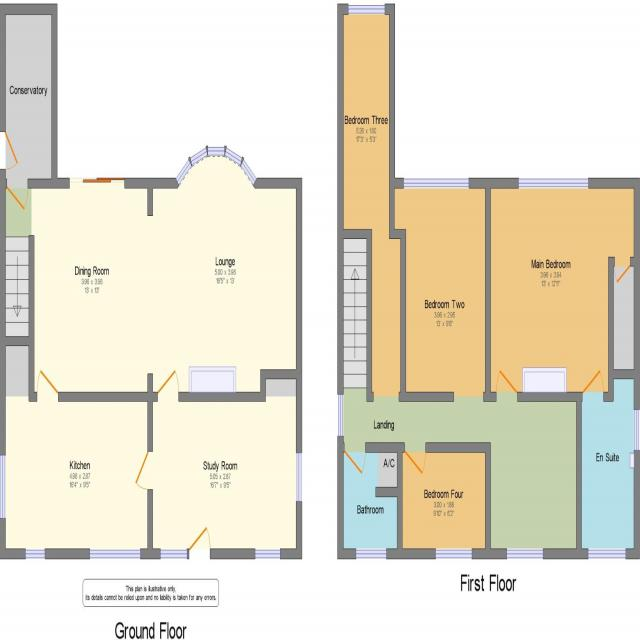DOOR: (493, 363, 522, 402), (134, 442, 153, 494), (156, 368, 182, 402), (35, 366, 60, 401), (402, 443, 428, 476), (580, 367, 605, 401), (188, 525, 212, 559)
ROOM: (1, 141, 302, 401), (488, 177, 640, 410), (132, 363, 302, 559), (337, 4, 405, 403), (388, 178, 487, 403), (400, 442, 491, 559)
SLIDING DOOR: (68, 176, 126, 189)
WINDOW: (174, 143, 258, 188), (403, 177, 470, 191), (517, 177, 589, 190), (346, 1, 386, 17), (88, 548, 141, 559), (353, 546, 388, 561), (434, 547, 473, 560), (506, 547, 544, 560), (587, 548, 626, 559), (159, 548, 188, 562), (0, 454, 6, 520), (296, 452, 303, 501), (337, 392, 344, 439), (24, 547, 46, 560), (255, 549, 281, 559)
